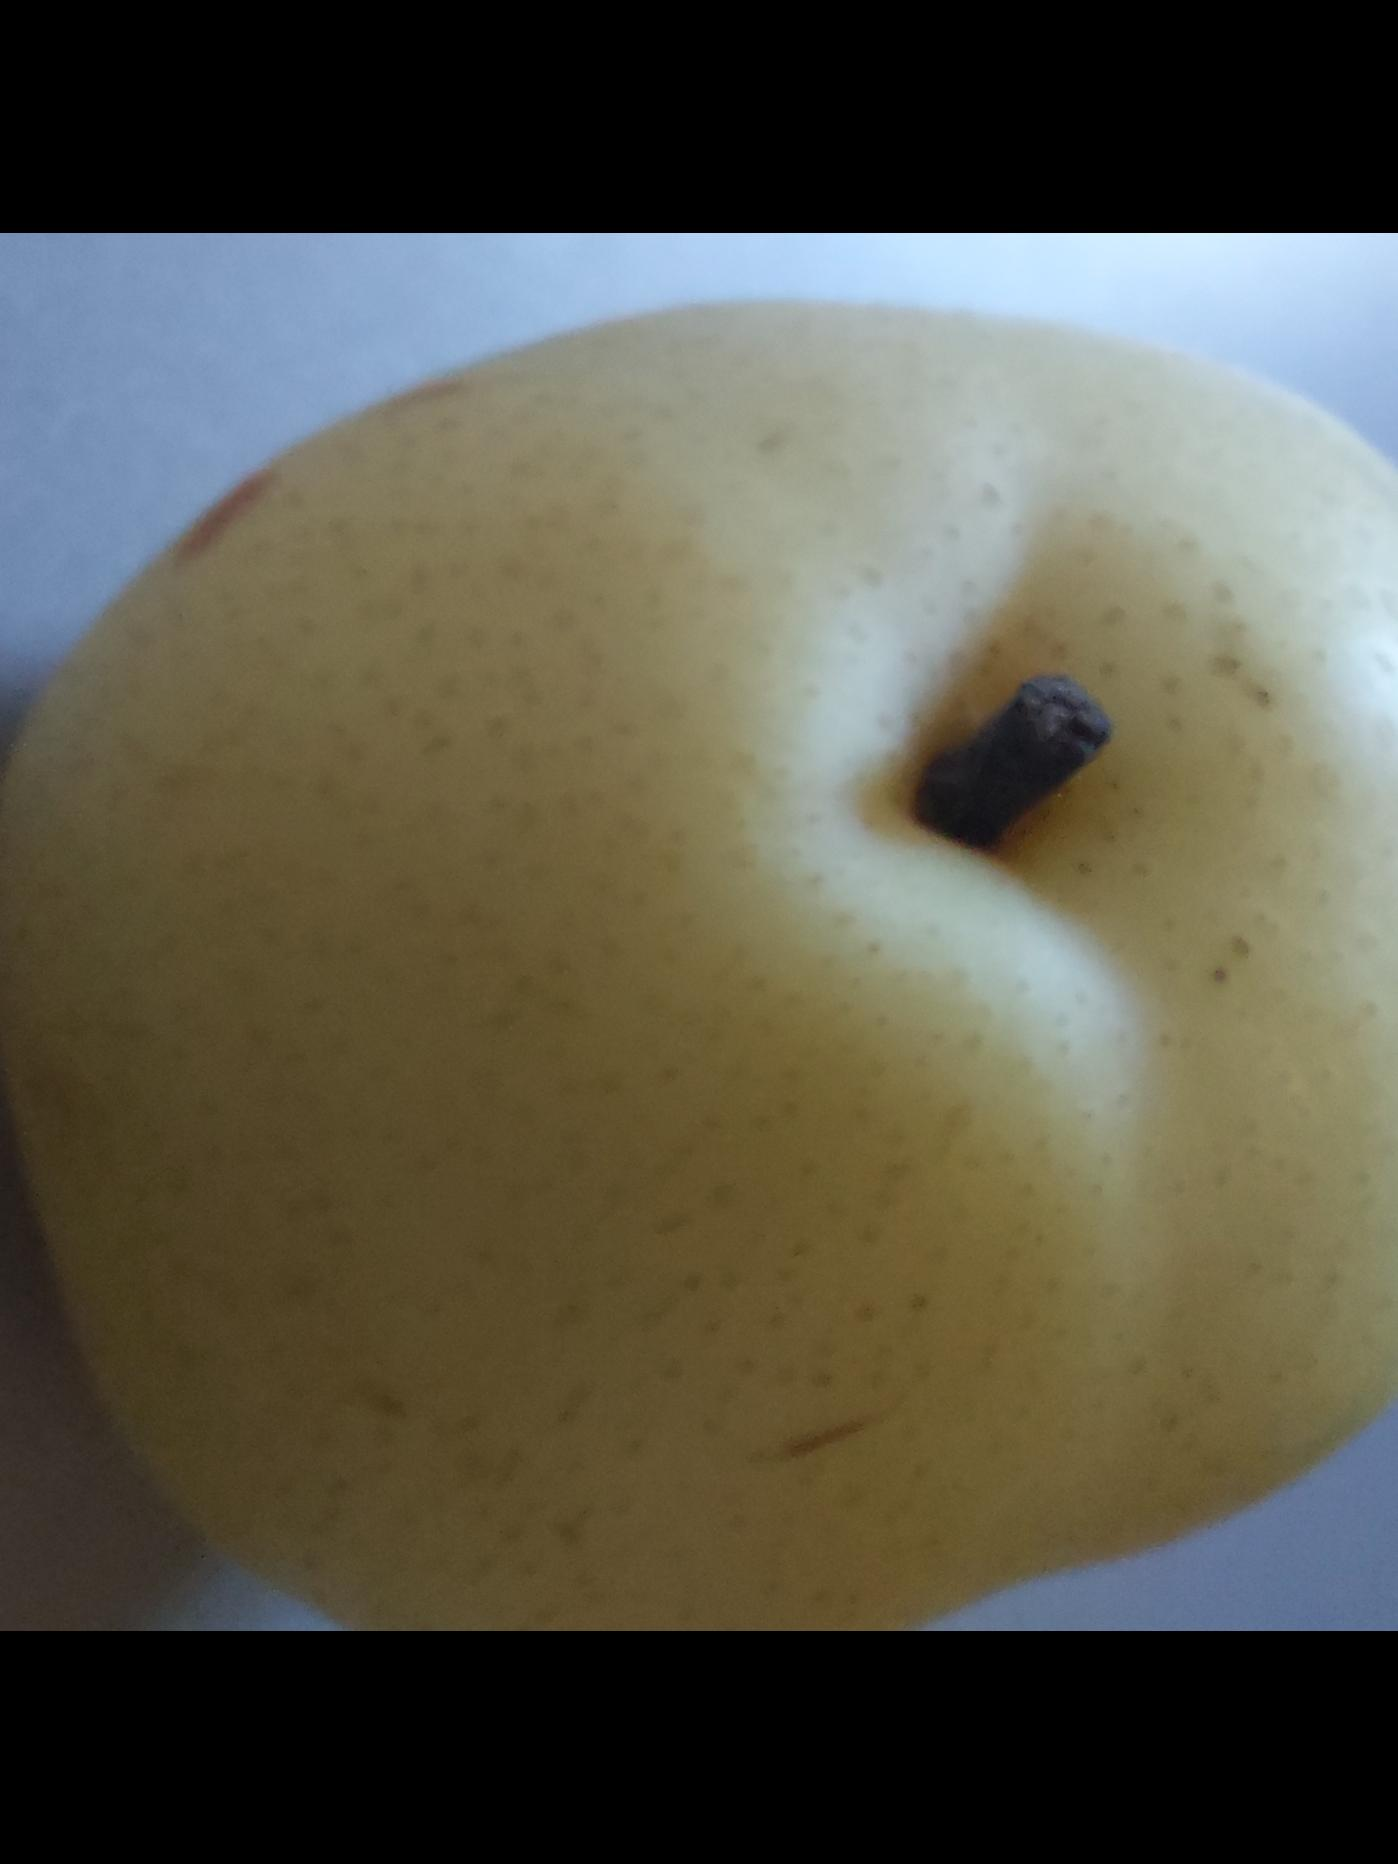Good Pear: (0, 299, 1398, 1631)
